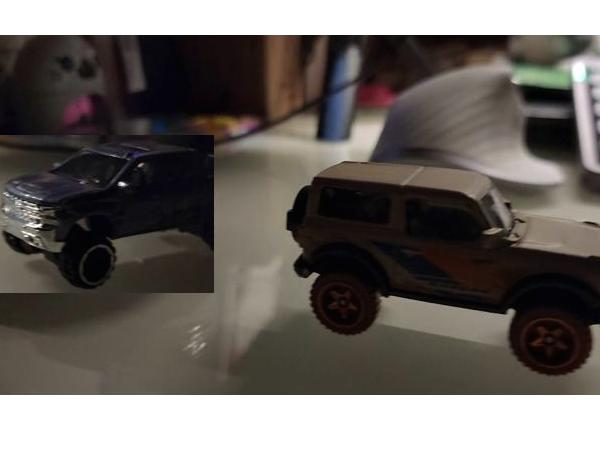toy-car: (284, 158, 600, 375), (0, 135, 214, 293)
